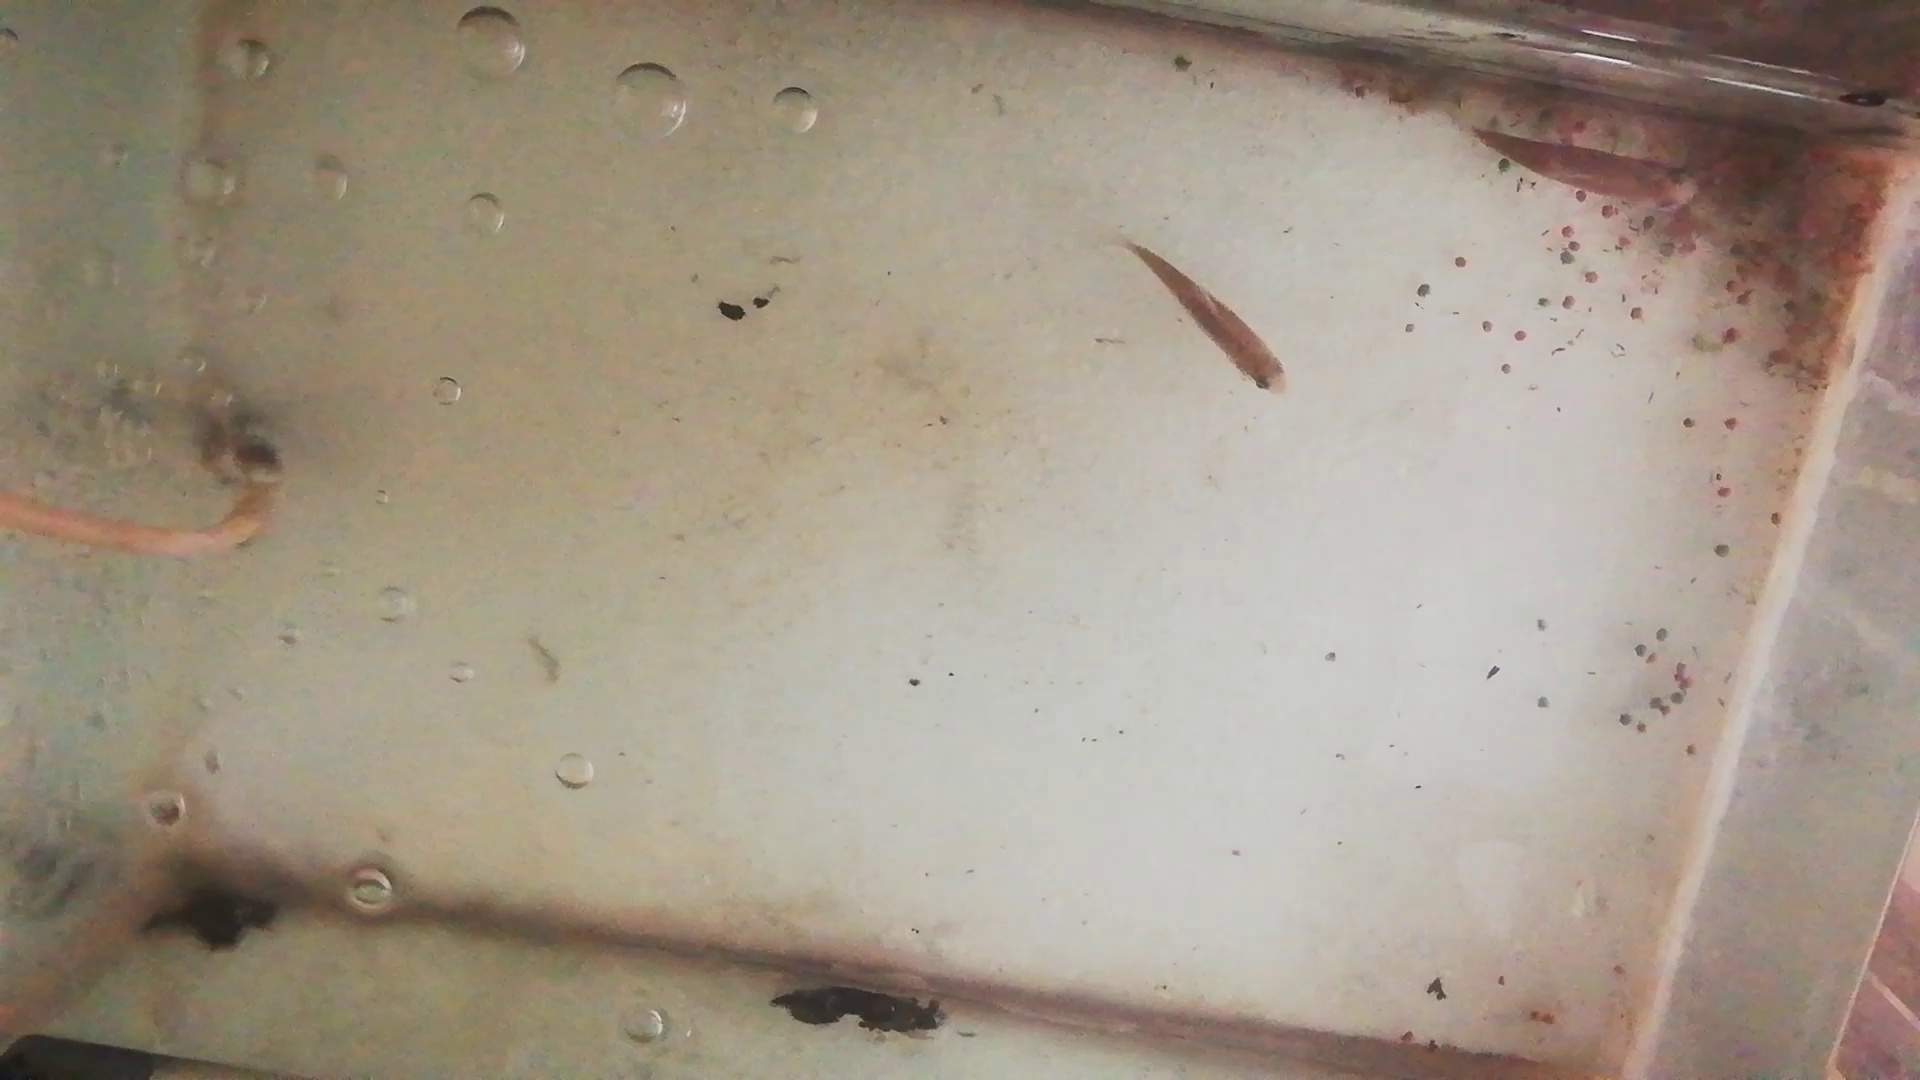fish: (1131, 245, 1295, 400), (1466, 127, 1702, 212)
